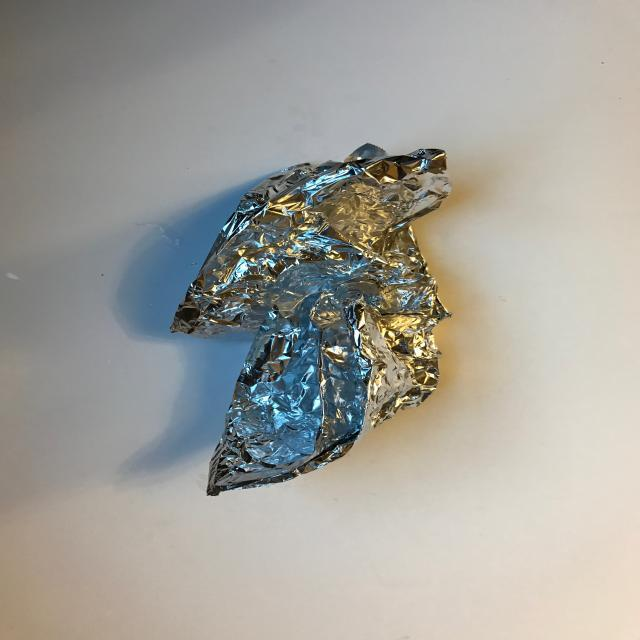metal: (172, 142, 456, 496)
